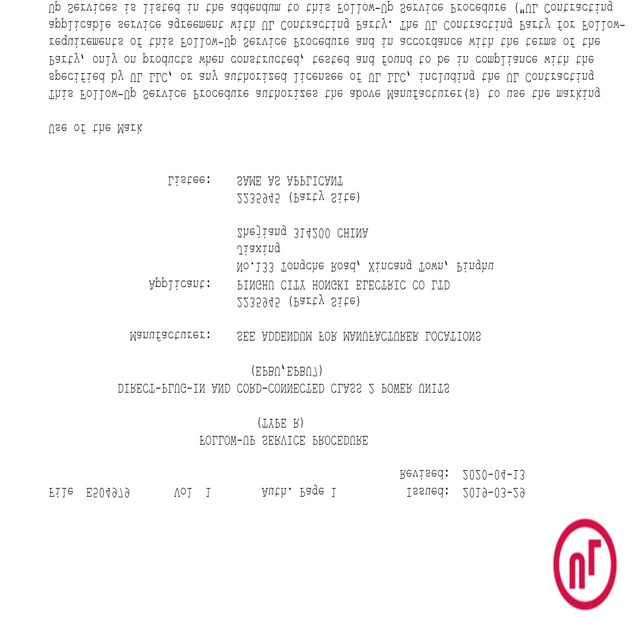ul: (552, 517, 619, 612)
